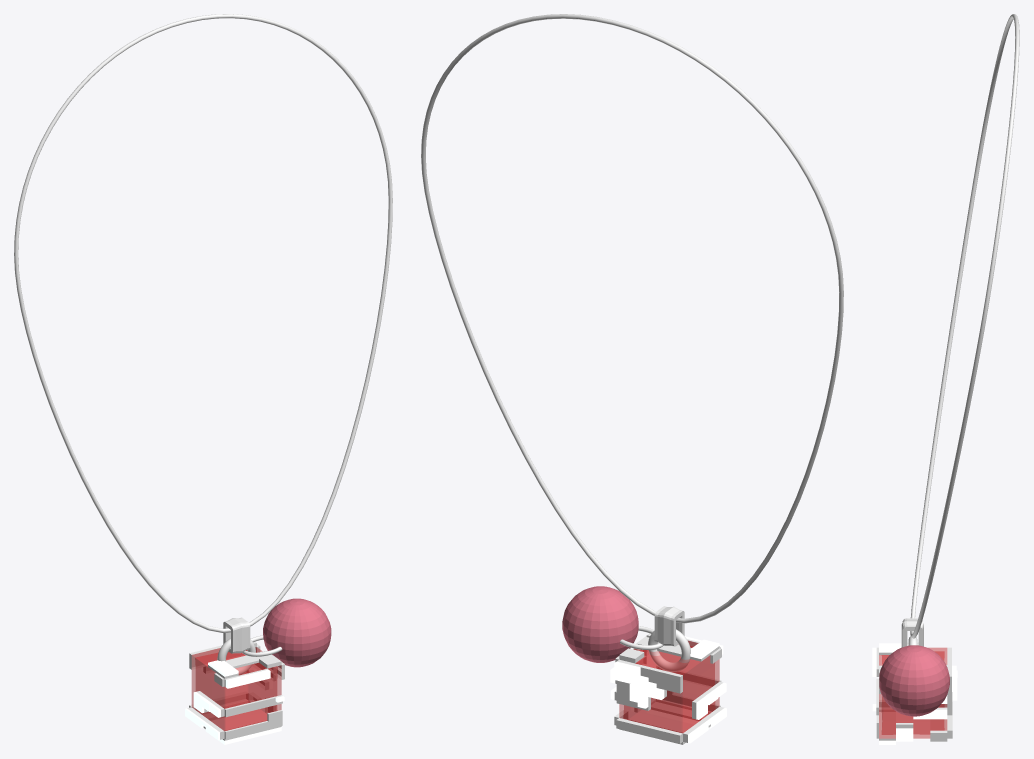
Rendered from neclaceAR.glb.
The picture shows the model from 3 angles, left to right: view 1: azimuth 30°, elevation 25°; view 2: azimuth 150°, elevation 25°; view 3: azimuth 270°, elevation 25°; orthographic projection. The views are drawn at different scales.
Visible parts, largest first — view 1: BezierCircle, Cube.001_RLExtr, Cube.001, Sphere, Cube.001_RLExtr.001, Cube; view 2: BezierCircle, Cube.001_RLExtr, Sphere, Cube.001, Cube.001_RLExtr.001, Cube, BezierCircle.002; view 3: BezierCircle, Sphere, Cube.001_RLExtr, Cube.001, Cube.001_RLExtr.001, Cube.
Boxes of the visible parts, left/top/right/bottom form: BezierCircle: left=14, top=14, right=392, bottom=632; Cube.001_RLExtr: left=187, top=642, right=284, bottom=740; Cube.001: left=192, top=647, right=281, bottom=731; Sphere: left=263, top=598, right=331, bottom=667; Cube.001_RLExtr.001: left=185, top=643, right=284, bottom=744; Cube: left=223, top=617, right=250, bottom=653; BezierCircle: left=421, top=14, right=843, bottom=623; Cube.001_RLExtr: left=614, top=633, right=724, bottom=744; Sphere: left=562, top=586, right=638, bottom=662; Cube.001: left=619, top=641, right=719, bottom=733; Cube.001_RLExtr.001: left=610, top=636, right=726, bottom=743; Cube: left=654, top=606, right=684, bottom=646; BezierCircle.002: left=648, top=629, right=690, bottom=672; BezierCircle: left=910, top=14, right=1019, bottom=638; Sphere: left=879, top=645, right=949, bottom=716; Cube.001_RLExtr: left=876, top=647, right=952, bottom=741; Cube.001: left=879, top=648, right=946, bottom=738; Cube.001_RLExtr.001: left=872, top=643, right=957, bottom=744; Cube: left=901, top=618, right=923, bottom=647.
Bounding box in the file's own units: 2.02 × 3.43 × 0.6594.
